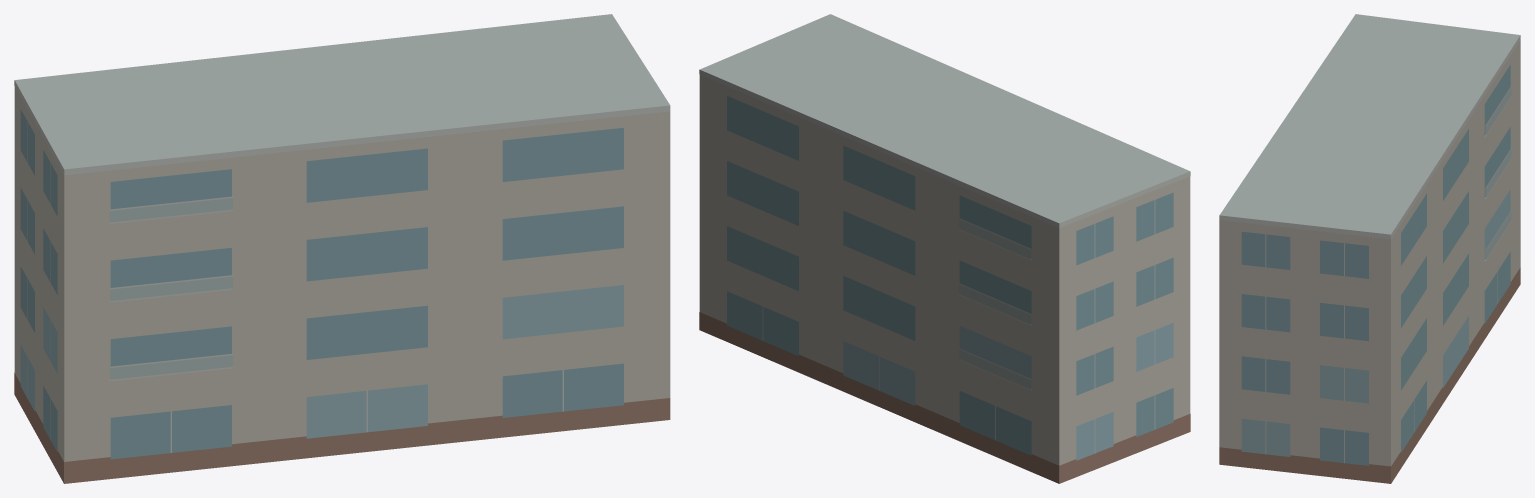
The model's file is survey-upis-32770824.glb.
3 views of the same model, side by side, from view 1: azimuth 30°, elevation 25°; view 2: azimuth 150°, elevation 25°; view 3: azimuth 270°, elevation 25° (orthographic). The views are drawn at different scales.
Parts seen in each view (by area): view 1: survey-upis-32770824.tmp; view 2: survey-upis-32770824.tmp; view 3: survey-upis-32770824.tmp.
Part boxes in pixels (left/top/right/bottom): survey-upis-32770824.tmp: left=14, top=14, right=670, bottom=483; survey-upis-32770824.tmp: left=699, top=14, right=1190, bottom=483; survey-upis-32770824.tmp: left=1219, top=14, right=1520, bottom=483.
Bounding box in the file's own units: 24.62 × 12.97 × 14.21.
